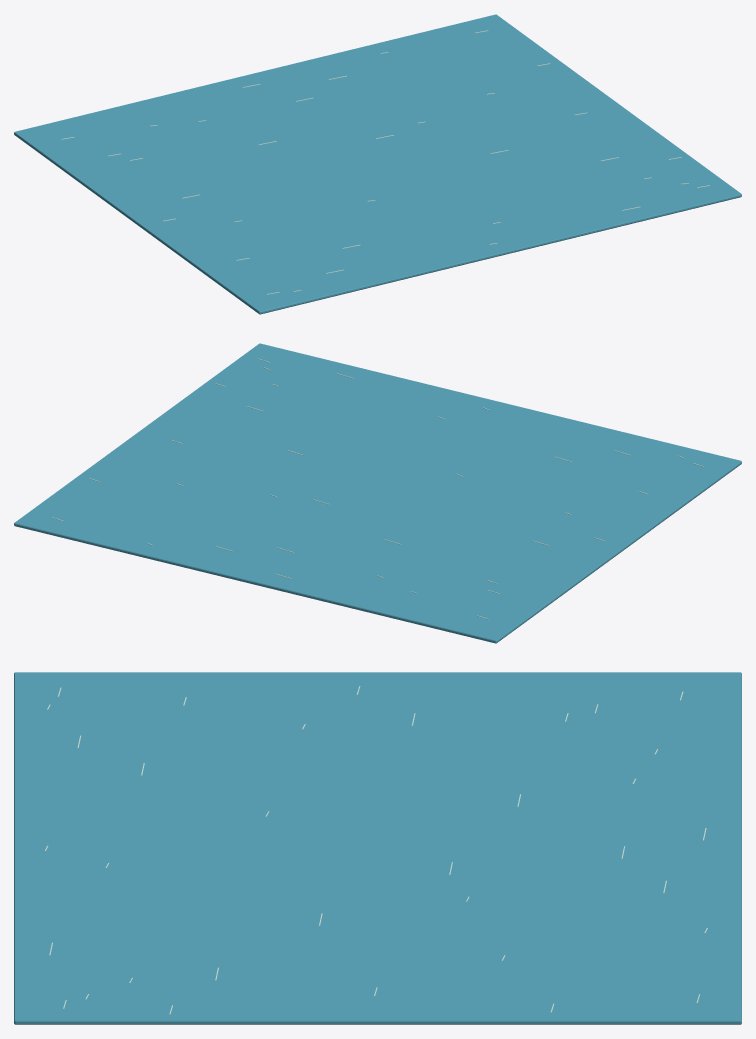
File: ocean-raft-settlement-ocean-raft-settlement-ocean-disp-9e6cf3c1__28921.glb
The picture shows the model from 3 angles, top to bottom: view 1: azimuth 30°, elevation 25°; view 2: azimuth 150°, elevation 25°; view 3: azimuth 270°, elevation 25°; orthographic projection. The views are drawn at different scales.
Parts seen in each view (by area): view 1: water, foam; view 2: water, foam; view 3: water, foam.
Part boxes in pixels (bbox=[...]): water: bbox=[14, 14, 741, 314]; foam: bbox=[61, 30, 709, 294]; water: bbox=[14, 343, 741, 643]; foam: bbox=[52, 358, 703, 619]; water: bbox=[14, 672, 741, 1024]; foam: bbox=[45, 686, 707, 1014].
Size of the model in its own units: 17 by 0.1135 by 15.
